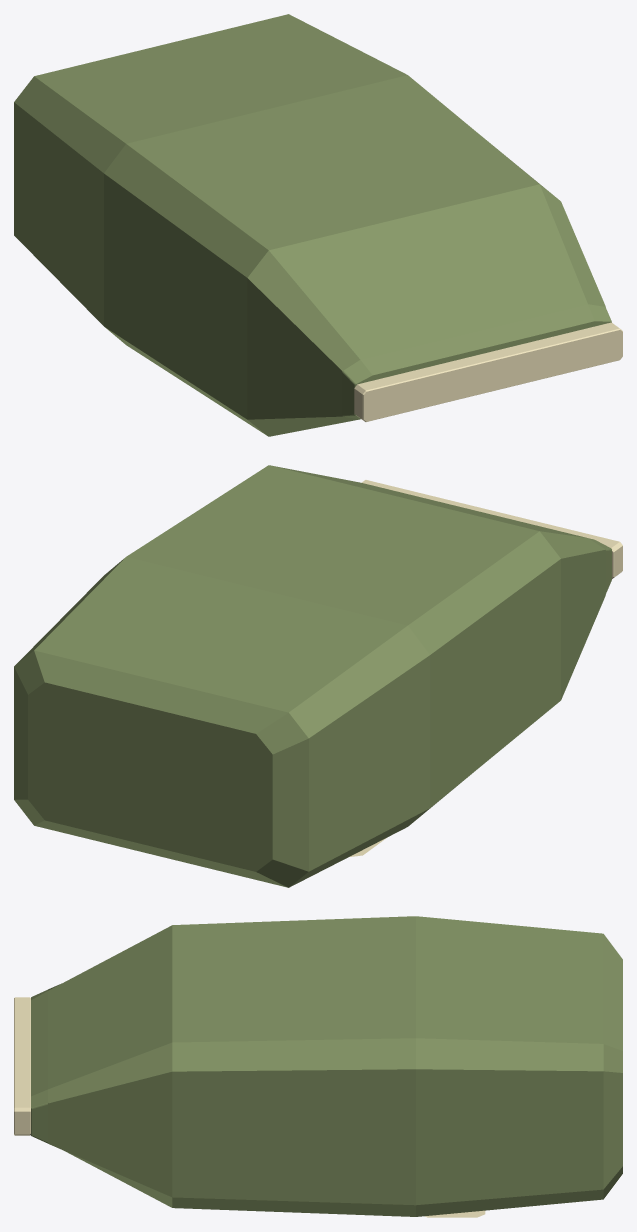
File: dog_food.glb
3 views of the same model, one above another, from view 1: azimuth 30°, elevation 25°; view 2: azimuth 150°, elevation 25°; view 3: azimuth 270°, elevation 25° (orthographic). The views are drawn at different scales.
Parts seen in each view (by area): view 1: dog_food; view 2: dog_food; view 3: dog_food.
Boxes of the visible parts, box(x1,y1,x2,y2) form: dog_food: box(14, 14, 622, 436); dog_food: box(14, 465, 622, 887); dog_food: box(14, 916, 622, 1217).
Bounding box in the file's own units: 0.1373 × 0.0892 × 0.25.
